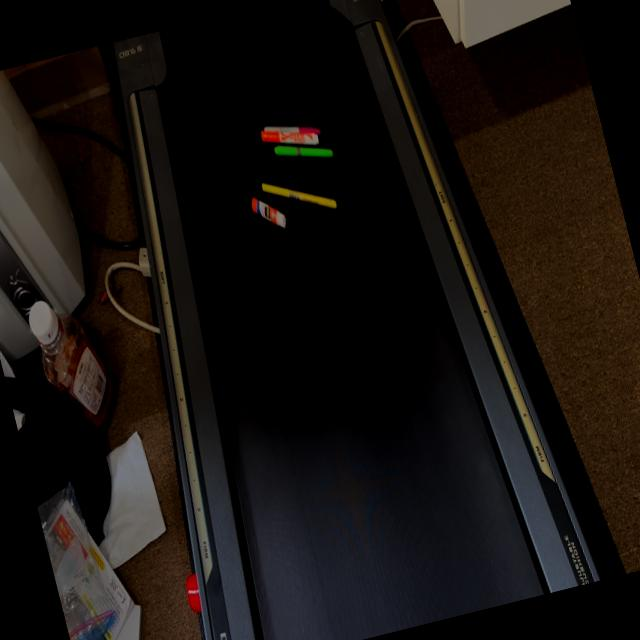Trash: (240, 161, 344, 239), (256, 101, 339, 173)
